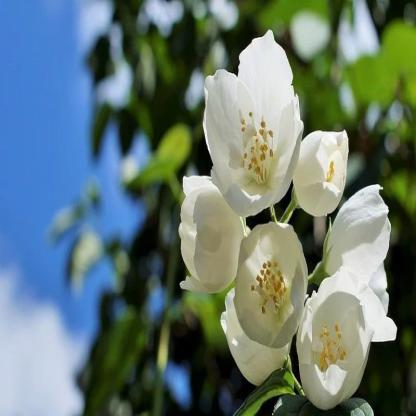Melati: (179, 19, 404, 400)
